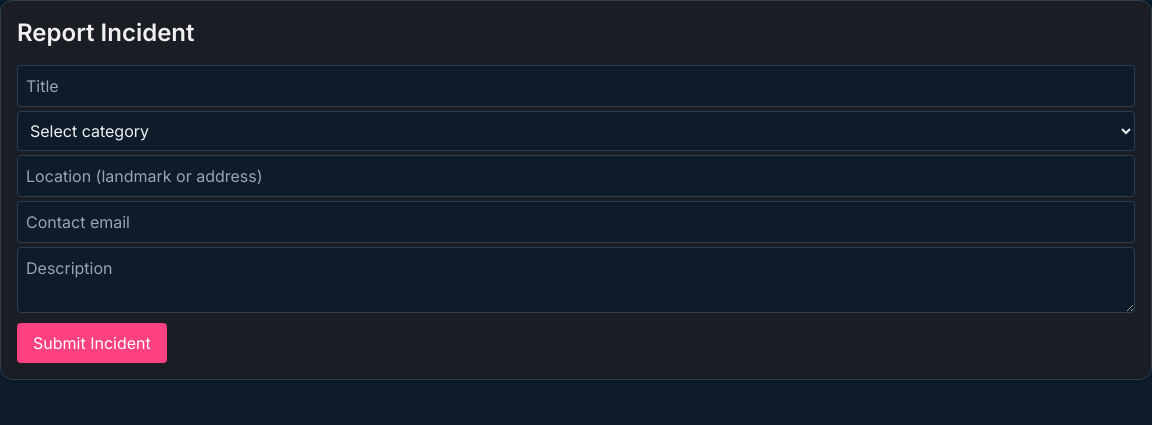
Test: IncidentForm › submits the form and shows success message
Type "Water pipe burst" into the field with placeholder "Title" at (576, 86), box [17,65,1135,107]
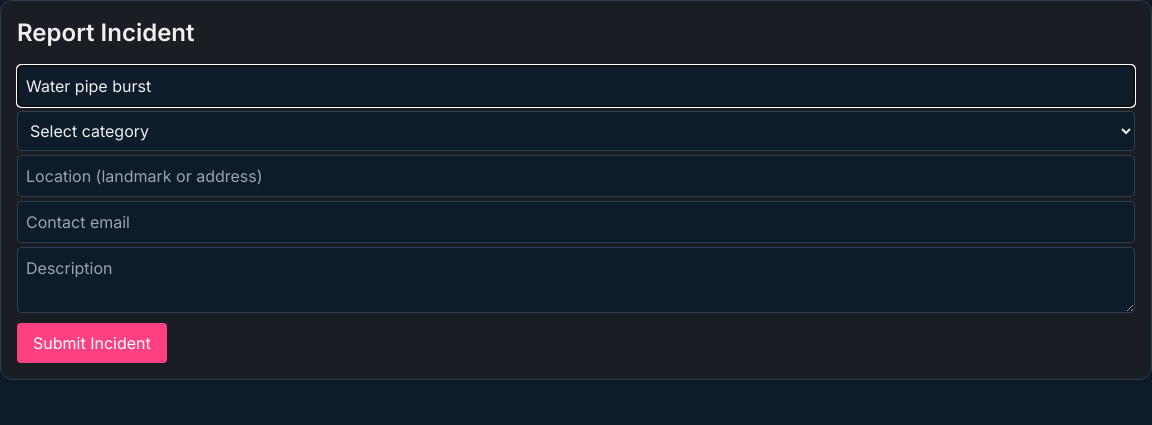
Select "water supply" in the dropdown named "category" at (576, 131), box [17,111,1135,151]
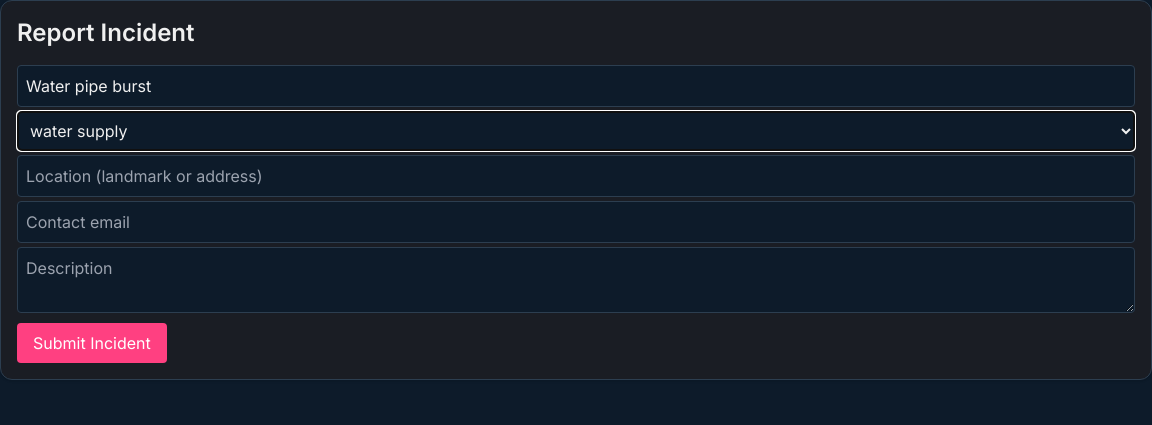
Type "South B" into the field with placeholder "Location (landmark or address)" at (576, 176), box [17,155,1135,197]
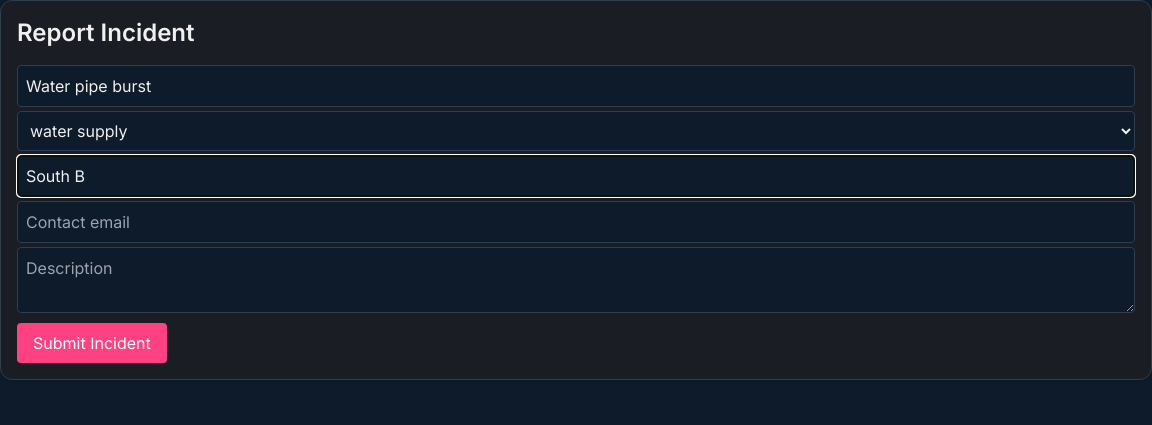
# Leave empty OR use a valid email to pass HTML5 validation
Type "user@example.com" into the field with placeholder "Contact email" at (576, 222), box [17,201,1135,243]
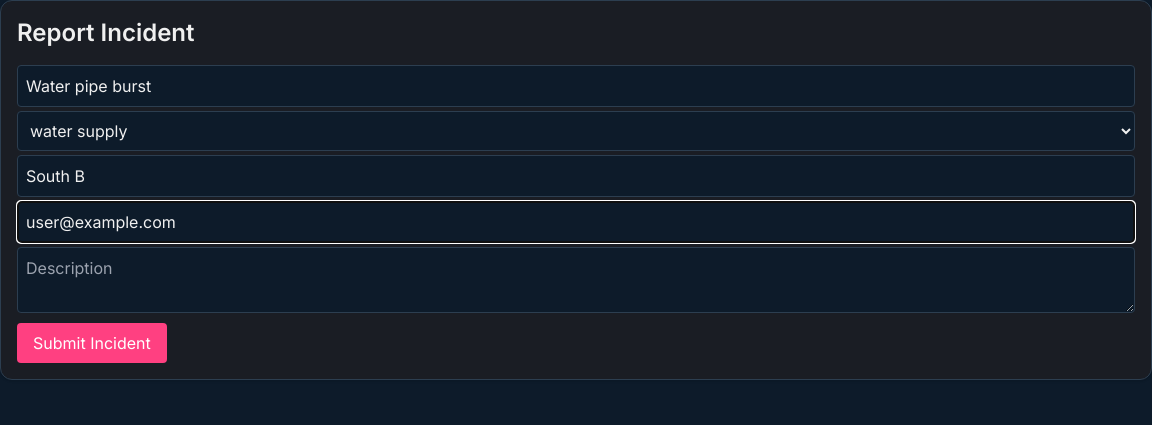
Type "Pipe burst near the petrol station" into the text box with placeholder "Description" at (576, 280), box [17,247,1135,313]
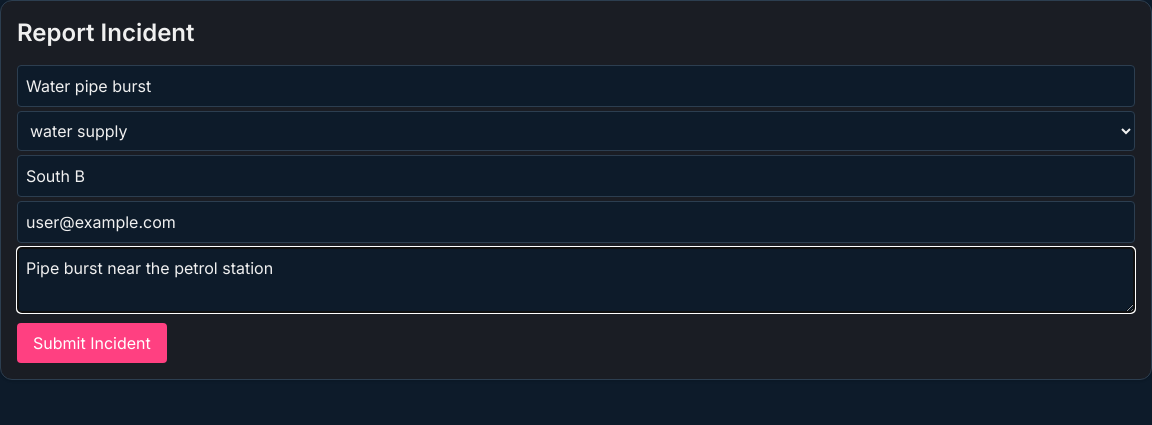
Click the button "Submit Incident" at (92, 343), box [17,323,167,363]
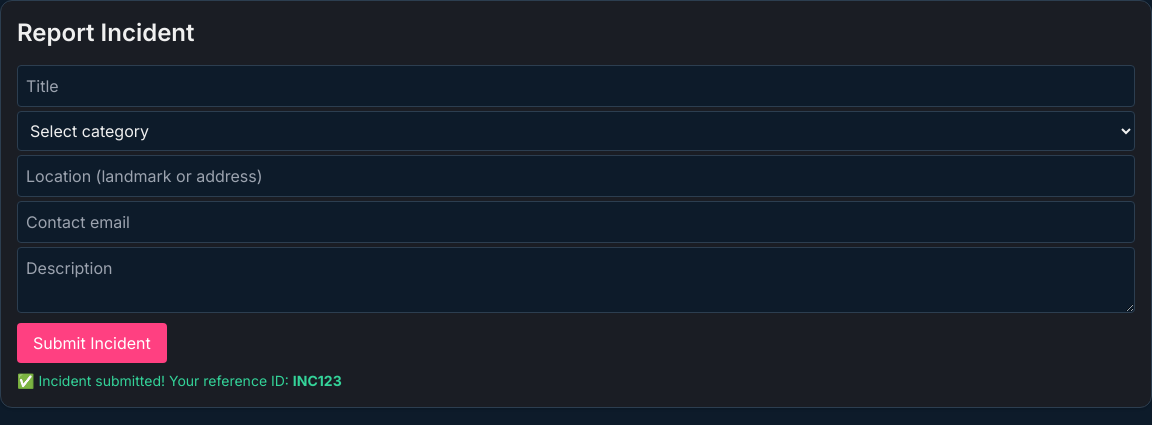
Expected: the message shows "Incident submitted", [17,372,289,389]
Expected: the message shows "INC123", [293,372,342,389]
